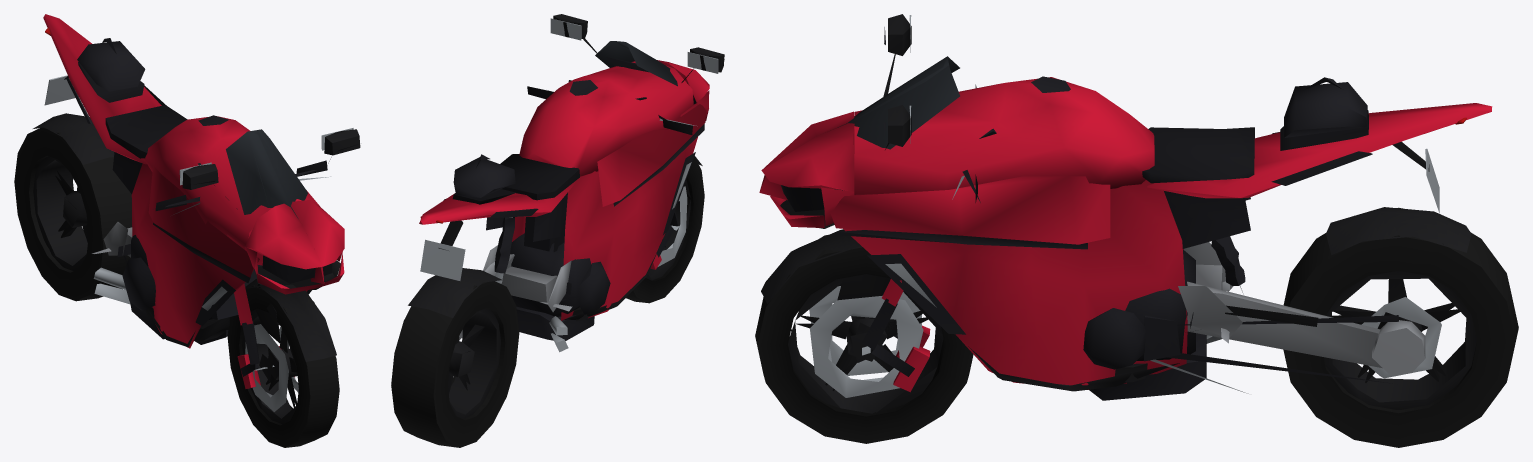
File: bike13_panigale.glb
The picture shows the model from 3 angles, left to right: view 1: azimuth 30°, elevation 25°; view 2: azimuth 150°, elevation 25°; view 3: azimuth 270°, elevation 25°; orthographic projection. The views are drawn at different scales.
Visible parts, largest first — view 1: body, wheel_rear, wheel_front; view 2: body, wheel_rear, wheel_front; view 3: body, wheel_rear, wheel_front.
Boxes of the visible parts, x1,y1,x2,y2 form: body: [33, 14, 360, 388]; wheel_rear: [14, 127, 131, 301]; wheel_front: [227, 285, 339, 447]; body: [408, 14, 724, 352]; wheel_rear: [391, 275, 519, 447]; wheel_front: [626, 156, 704, 303]; body: [759, 14, 1492, 400]; wheel_rear: [1283, 207, 1518, 447]; wheel_front: [755, 234, 973, 443].
Size of the model in its own units: 0.72 by 1.12 by 2.06.
